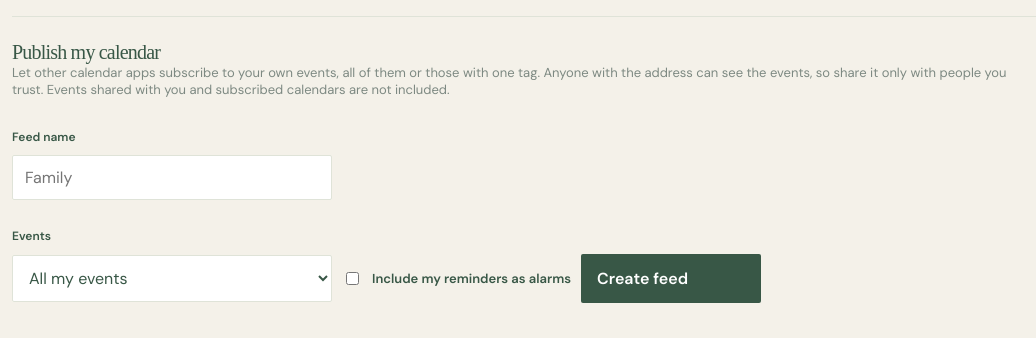
Test: FeedSettings › creates a feed for one tag with alarms
Type "Colleagues" into the field labelled "Feed name" at (172, 178), box [12,155,332,200]
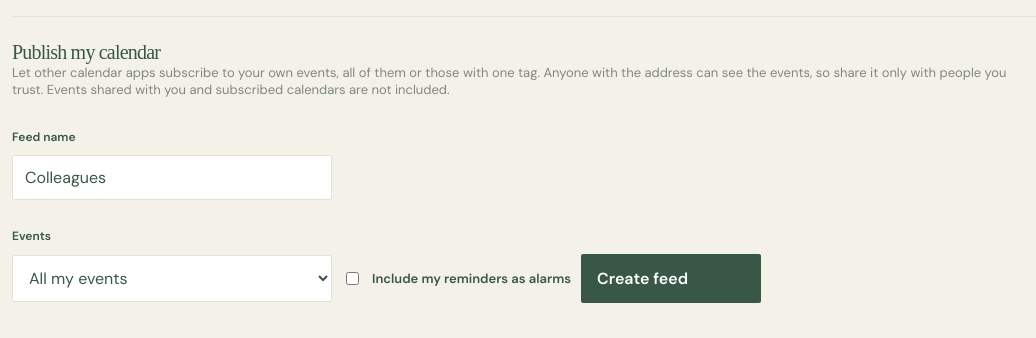
Select "Tagged Work" in the dropdown labelled "Events" at (172, 278), box [12,255,332,302]
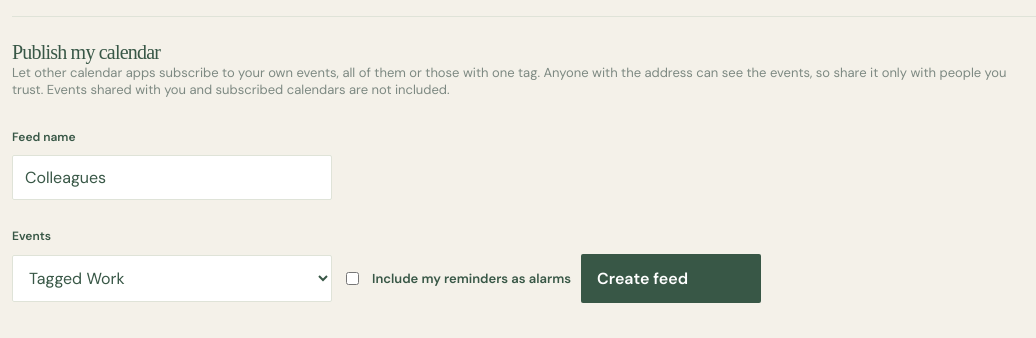
Click the checkbox labelled "Include my reminders as alarms" at (352, 278), box [346,272,359,285]
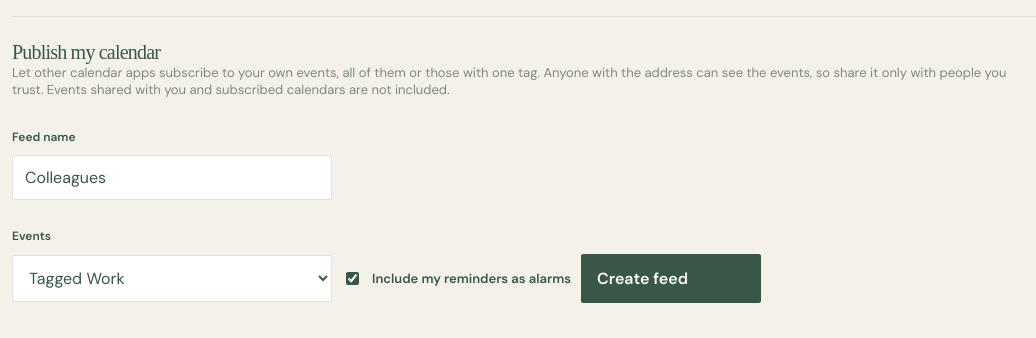
Click the button "Create feed" at (671, 278), box [581,254,761,303]
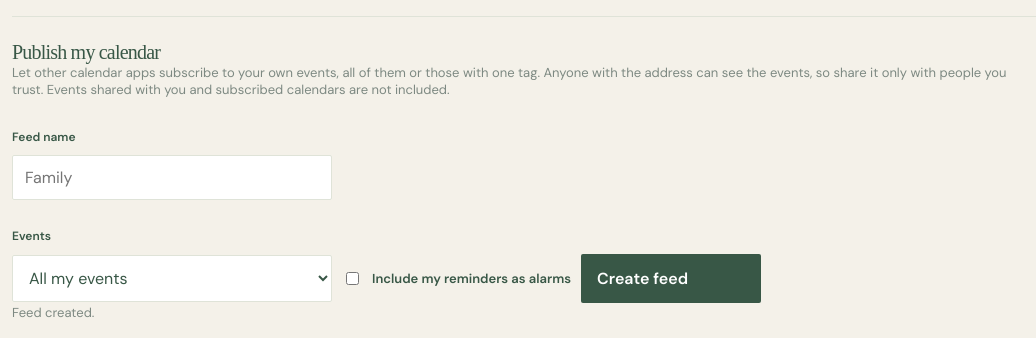
Check: the text "Feed created." is shown, box [12,304,94,321]
